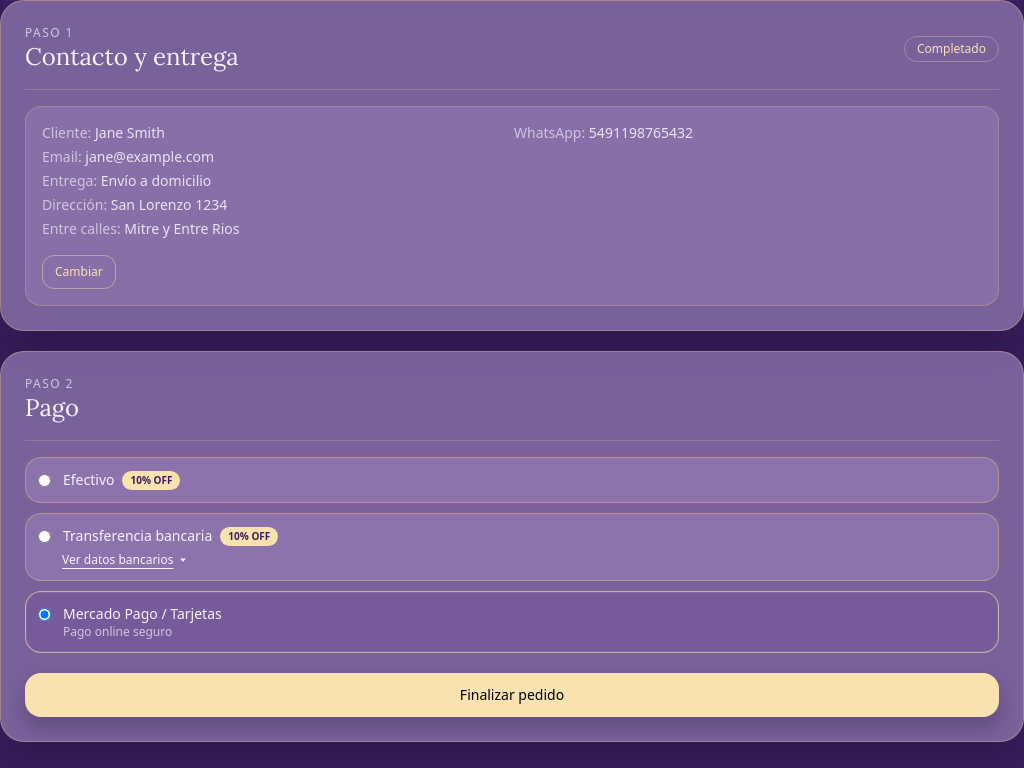
Test: CheckoutSteps Auto-Advance › disables payment actions while editing Step 1 from Step 2
Click the button "Cambiar" at (79,272), box [42,255,116,289]
(page scrolled)
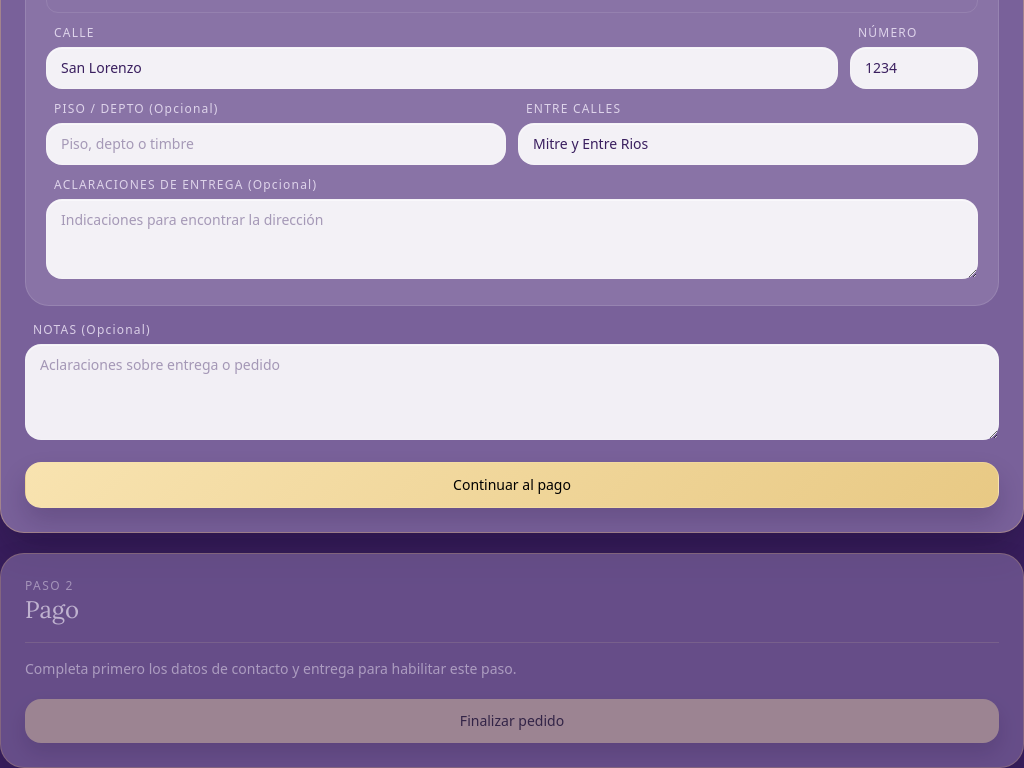
Now the text "Completa primero los datos de contacto" is shown, box [25,659,516,678]
Now the button "Finalizar pedido" is disabled, box [25,699,999,743]
Now the button "Continuar al pago" is enabled, box [25,462,999,508]
